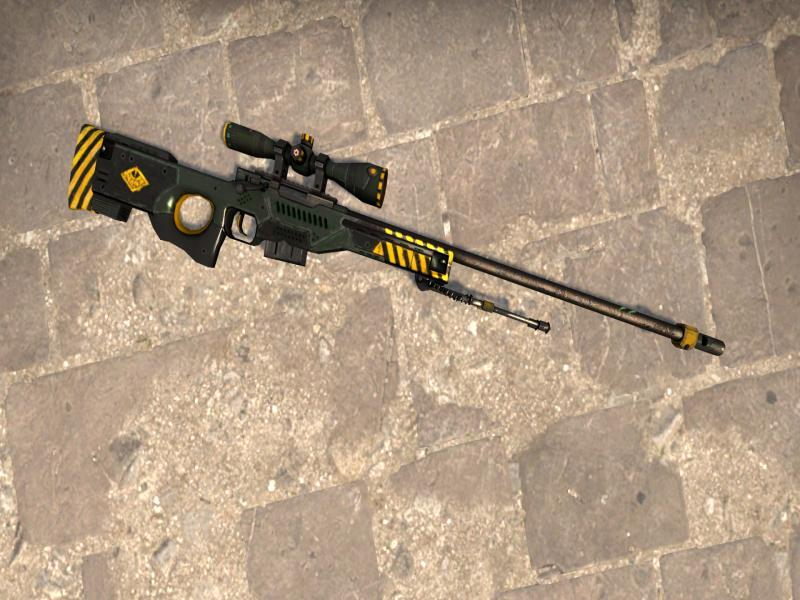AWP: (68, 121, 726, 355)
